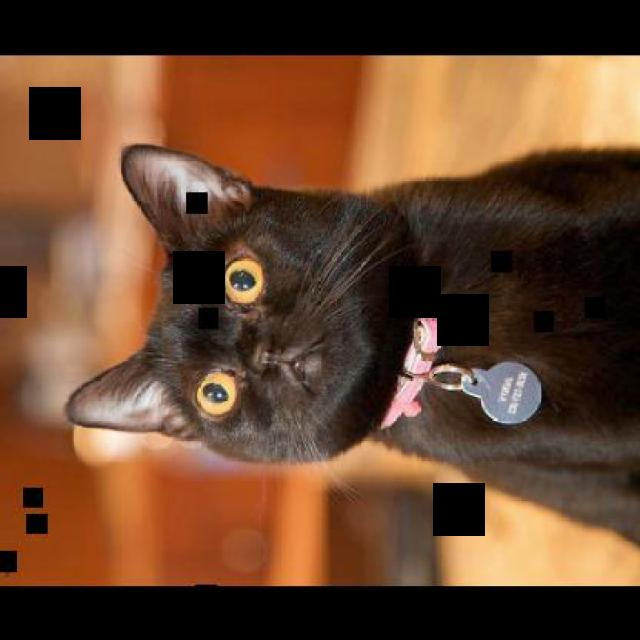unauthorized: (63, 138, 639, 572)
